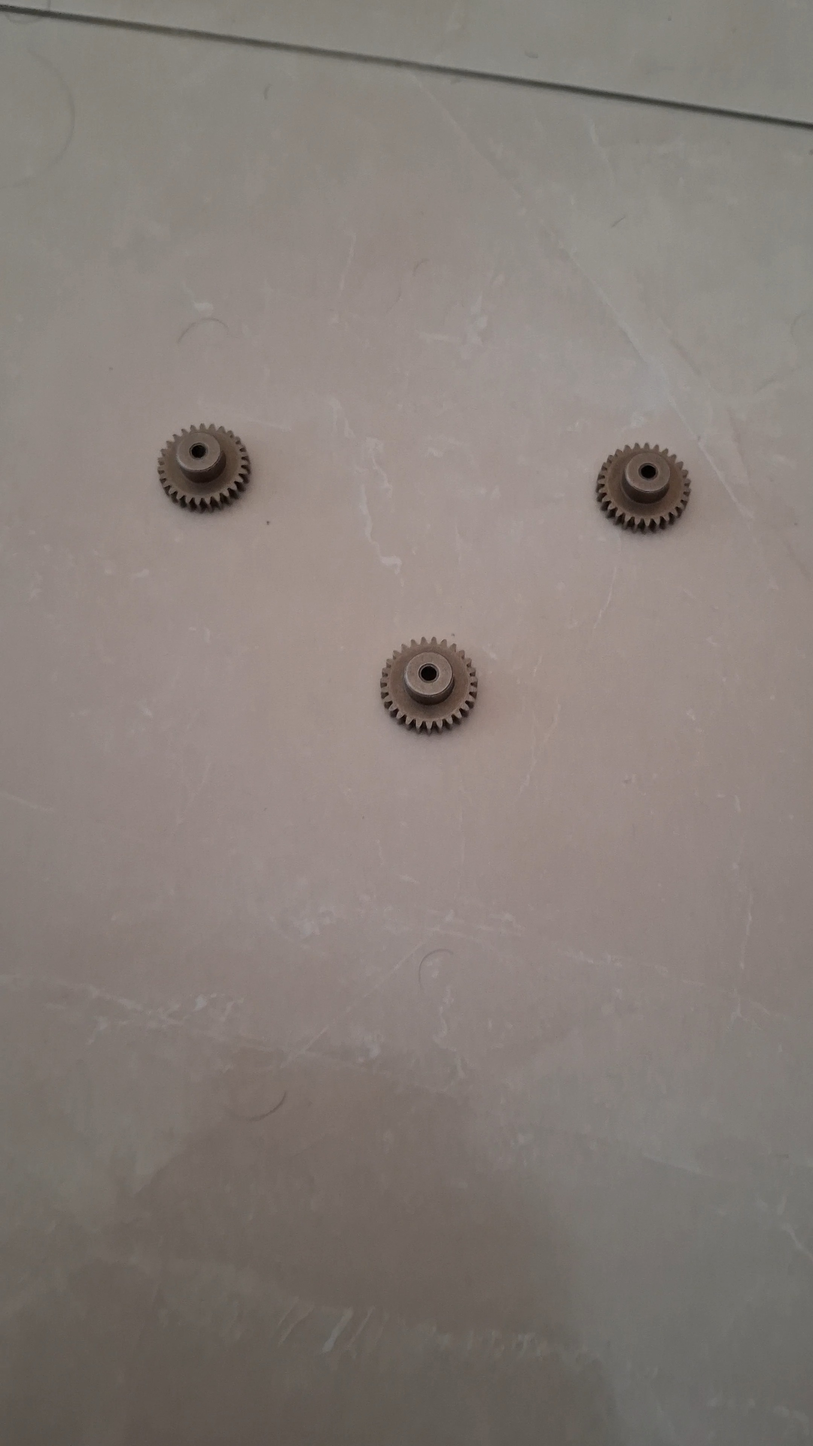spur gear: (381, 638, 477, 732), (158, 424, 250, 511), (597, 444, 690, 530)
